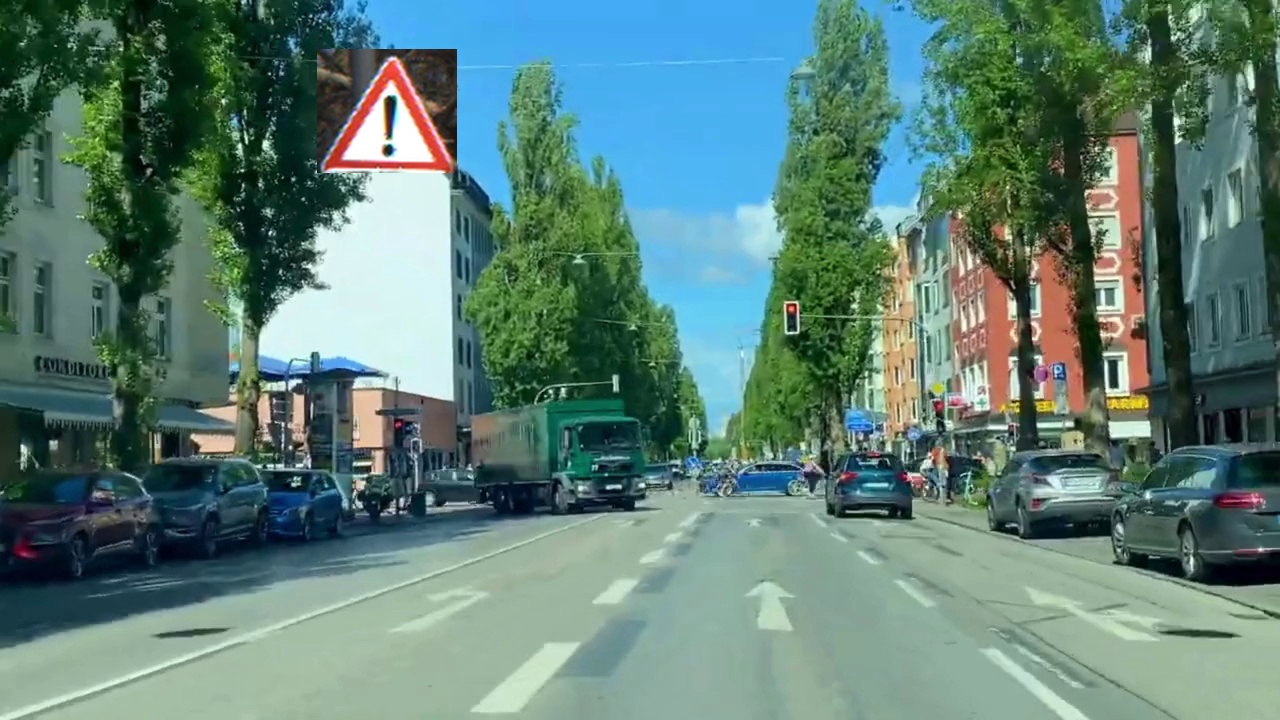Caution: (317, 49, 457, 173)
